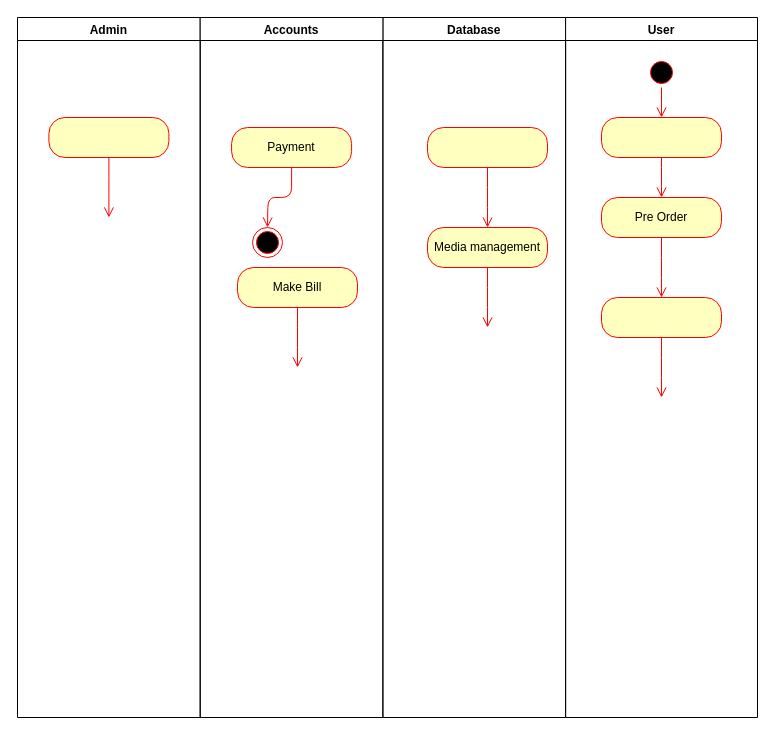
Some shapes in this 775 by 735 pixel diagram are drawn without their labels. The centre of each missing label's shape, as x and y in pixels:
"Check availability" belongs at pixel 487 147.
"Login" belongs at pixel 661 137.
"Purchase" belongs at pixel 661 317.
"Update & delete car" belongs at pixel 108 137.
